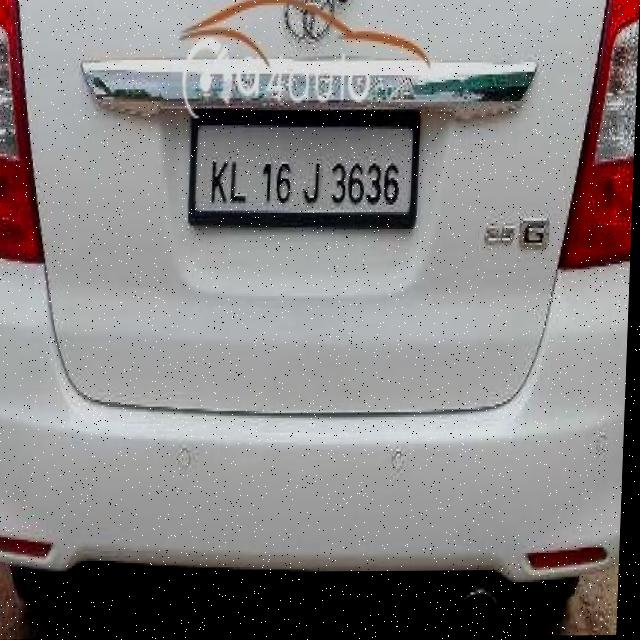plate: (197, 119, 415, 218)
